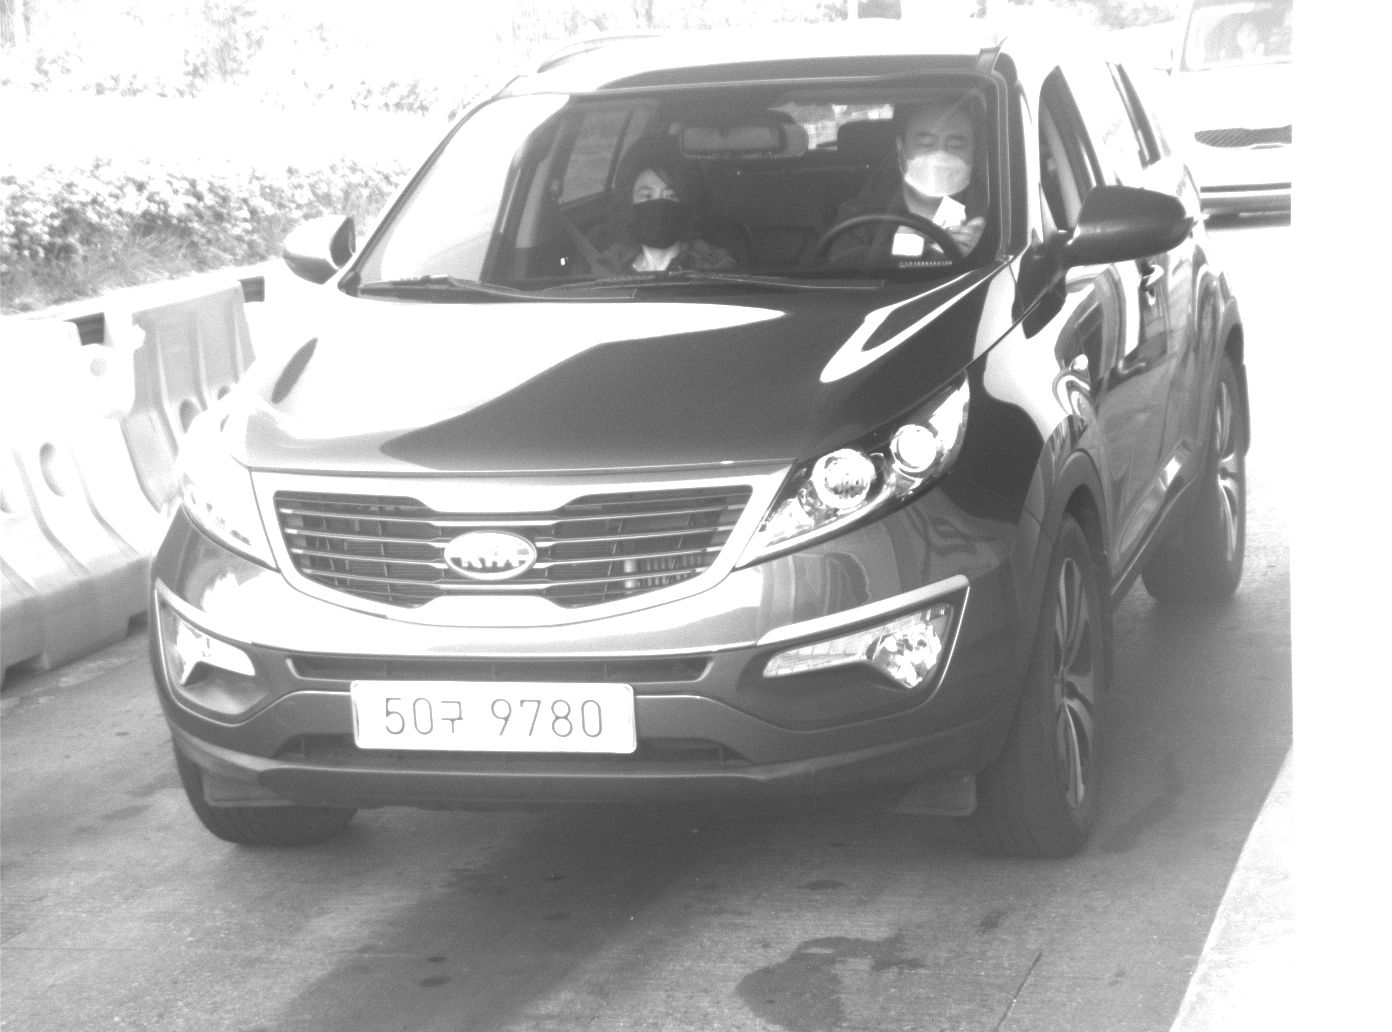car: (151, 19, 1250, 862), (1164, 1, 1299, 230)
plate: (347, 680, 638, 755)
